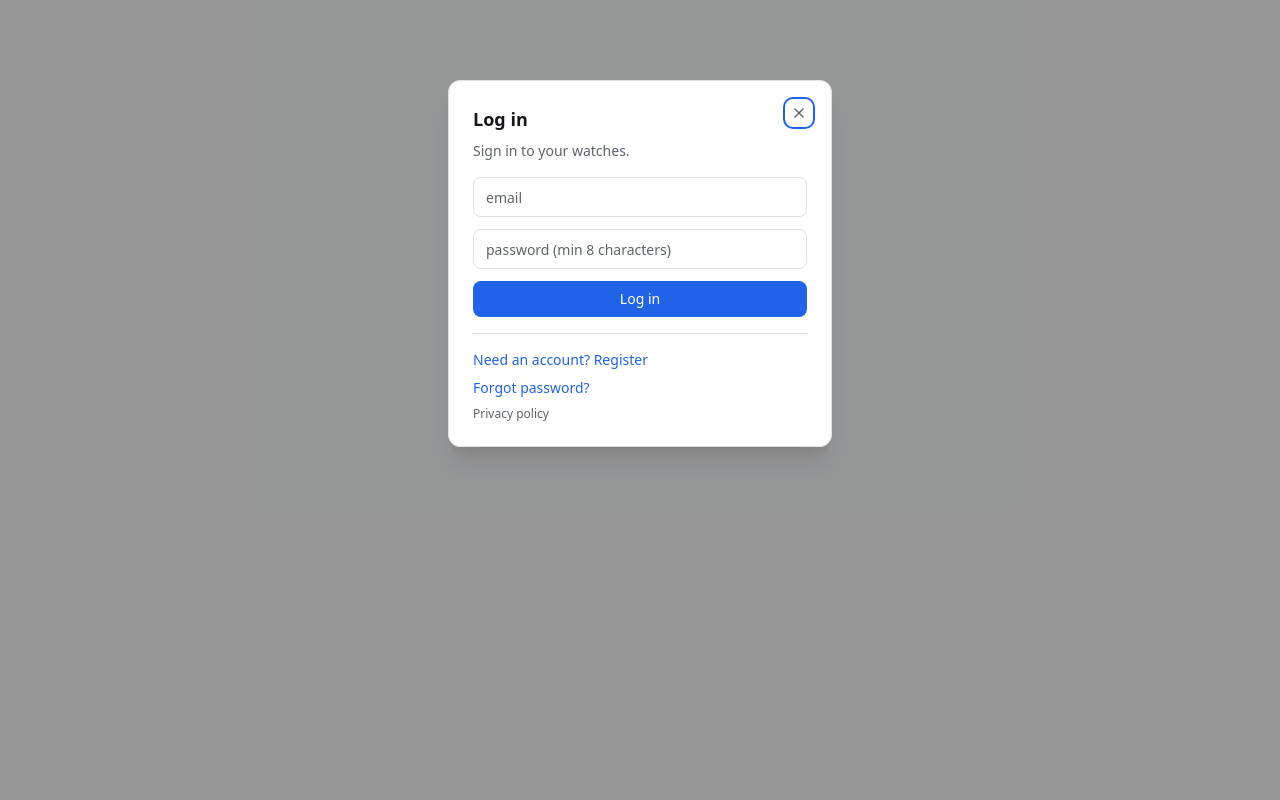
Test: Login — signing in › surfaces the rate-limit message rather than a generic failure
The image size is (1280, 800).
Step 1. Type "u@example.test" into the field with placeholder "email" → (640, 197), box [473,177,807,217]
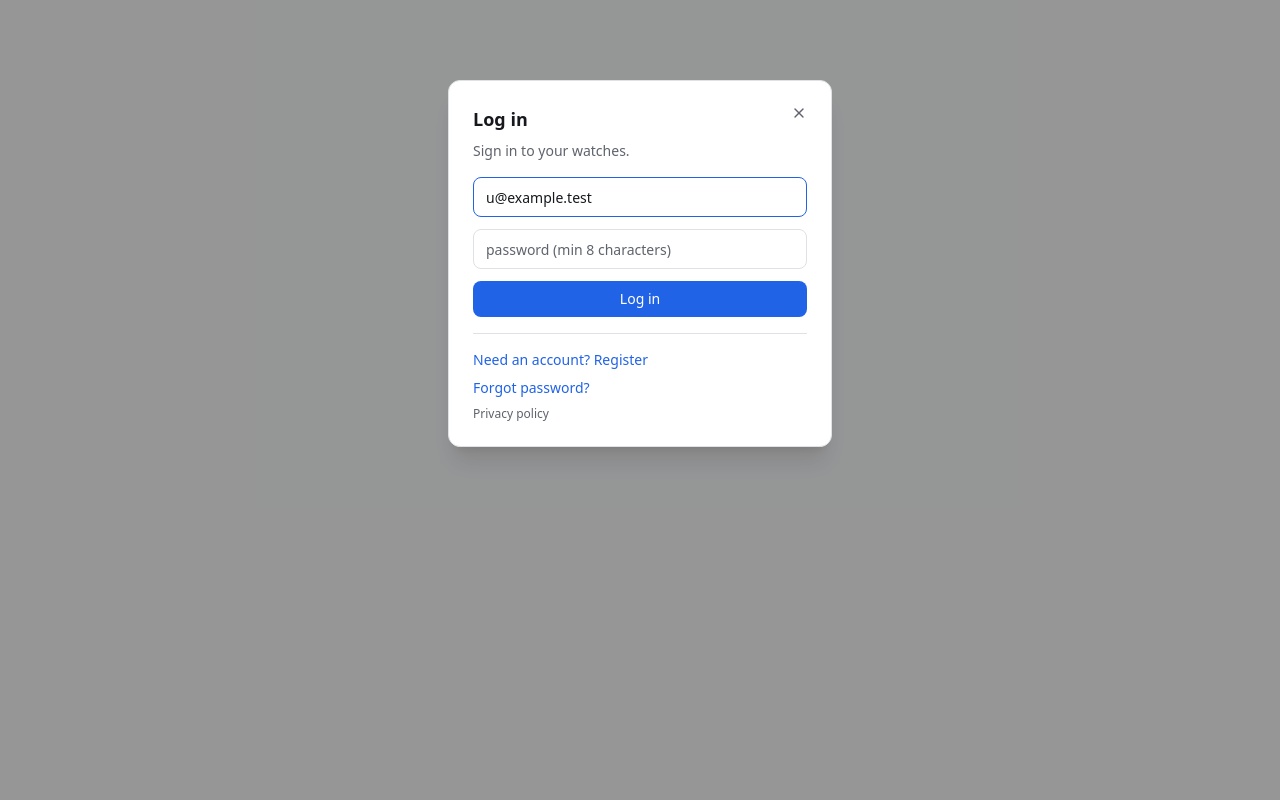
Step 2. Type "password123" into the password field with placeholder "password (min 8 characters)" → (640, 249), box [473,229,807,269]
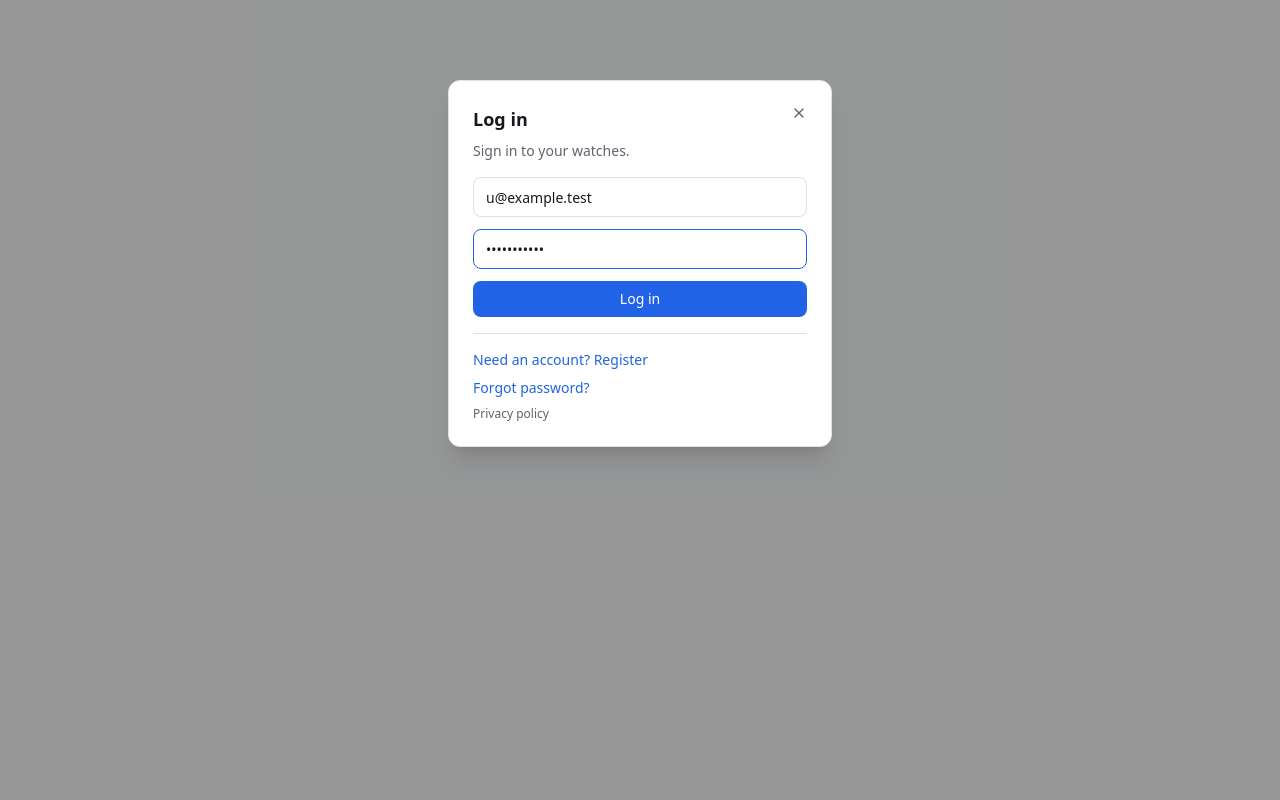
Step 3. Click the button "Log in" → (640, 299), box [473,281,807,317]
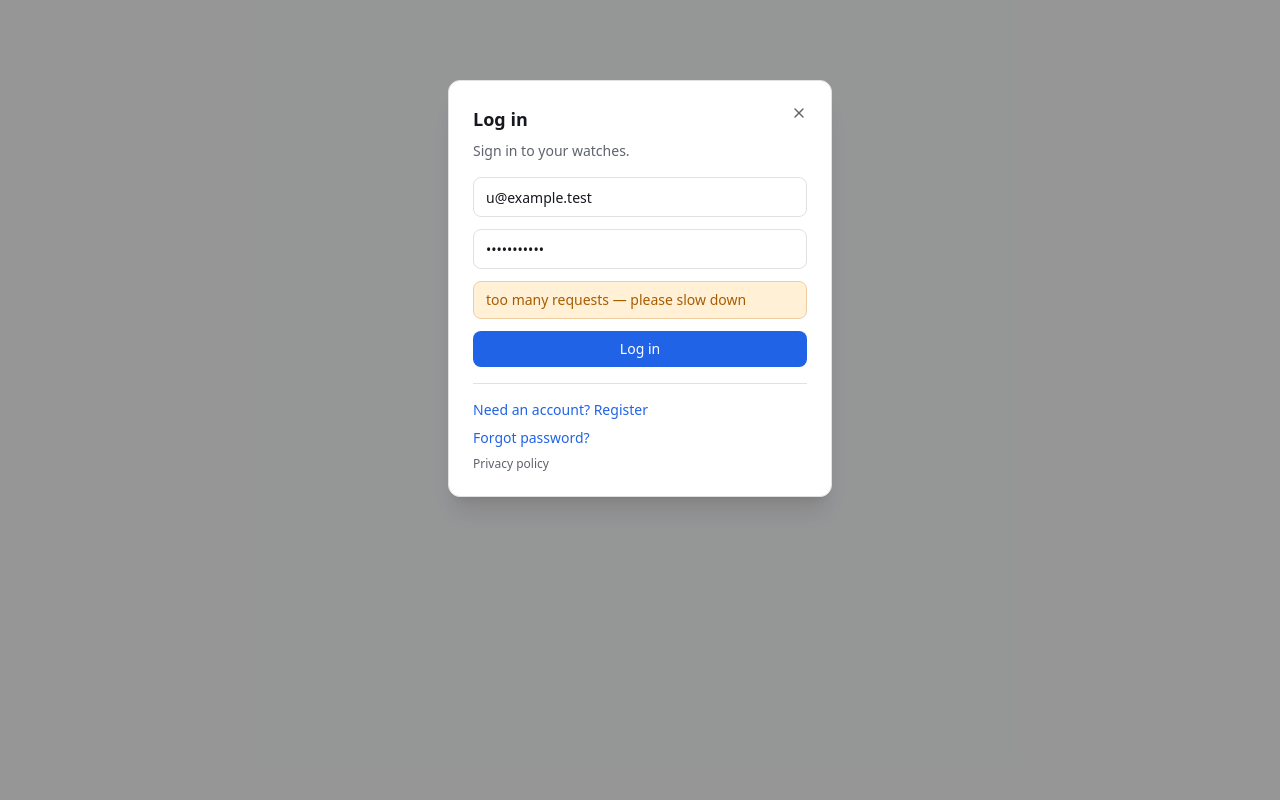
Now the text "too many requests — please slow down" is shown, box [473,281,807,319]
